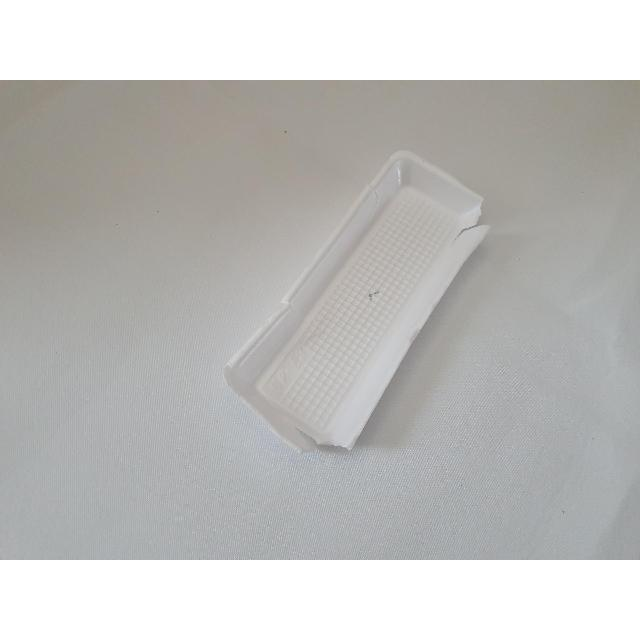Plastico descartable: (223, 151, 491, 454)
